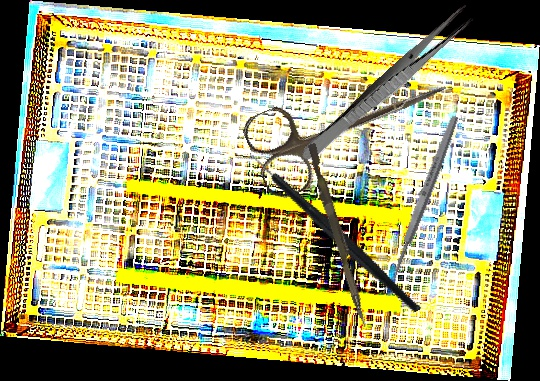Chopper: (233, 112, 423, 354)
Dressing Forceps: (297, 2, 478, 168)
Iris Scissors: (238, 42, 462, 204)
Pusher: (302, 142, 375, 329)
Surgical Spoon: (381, 114, 461, 297)
